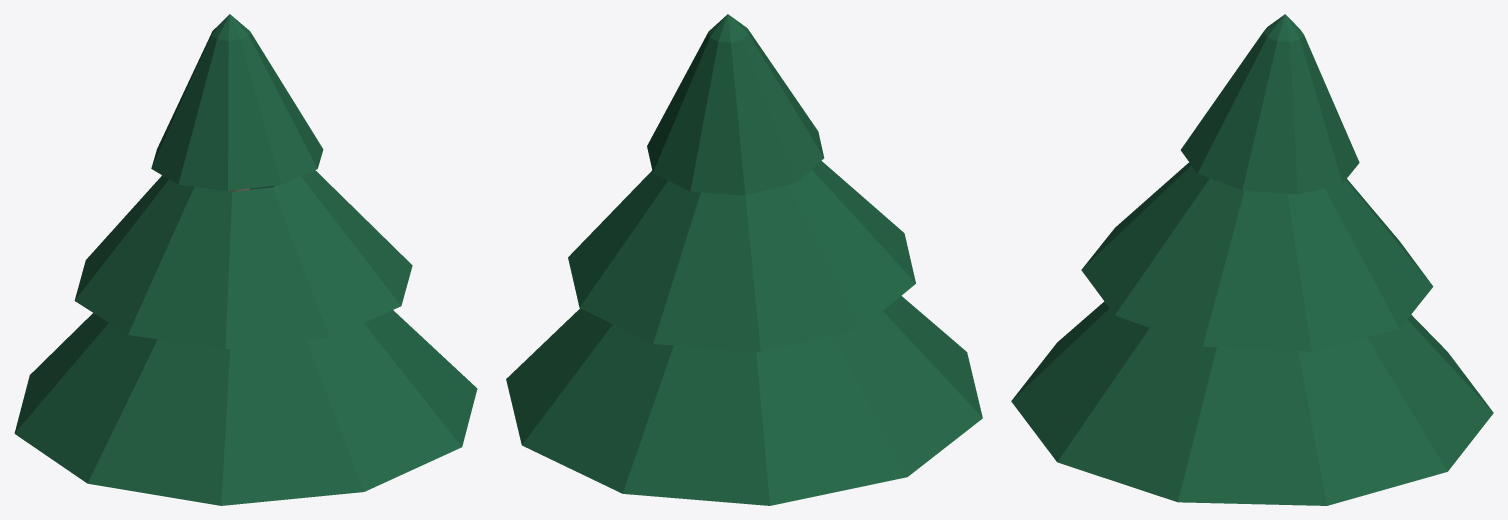
Rendered from pine.glb.
The picture shows the model from 3 angles, left to right: view 1: azimuth 30°, elevation 25°; view 2: azimuth 150°, elevation 25°; view 3: azimuth 270°, elevation 25°; orthographic projection. The views are drawn at different scales.
Visible parts, largest first — view 1: pine leafs; view 2: pine leafs; view 3: pine leafs.
Part boxes in pixels (x1,y1,x2,y2): pine leafs: (14, 14, 477, 505); pine leafs: (506, 14, 982, 505); pine leafs: (1011, 14, 1493, 505).
Size of the model in its own units: 3.73 by 4.02 by 3.92.
